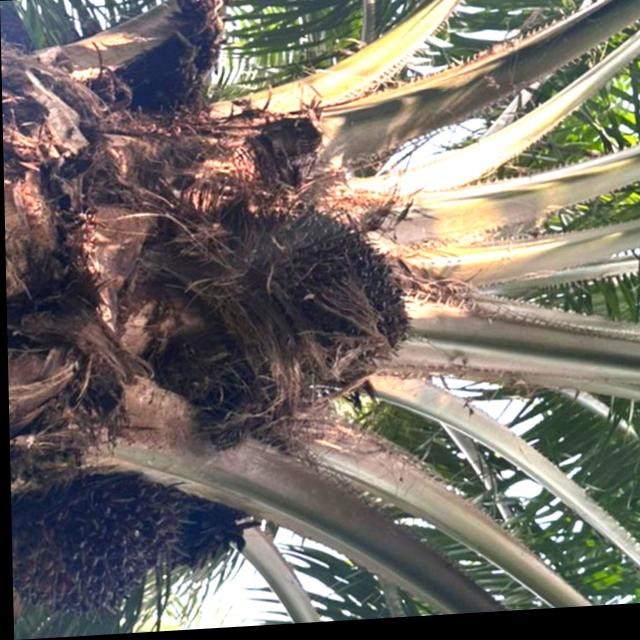unripe: (237, 190, 422, 402)
